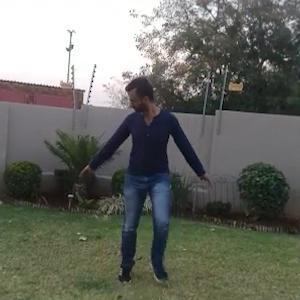land: (82, 73, 224, 292)
